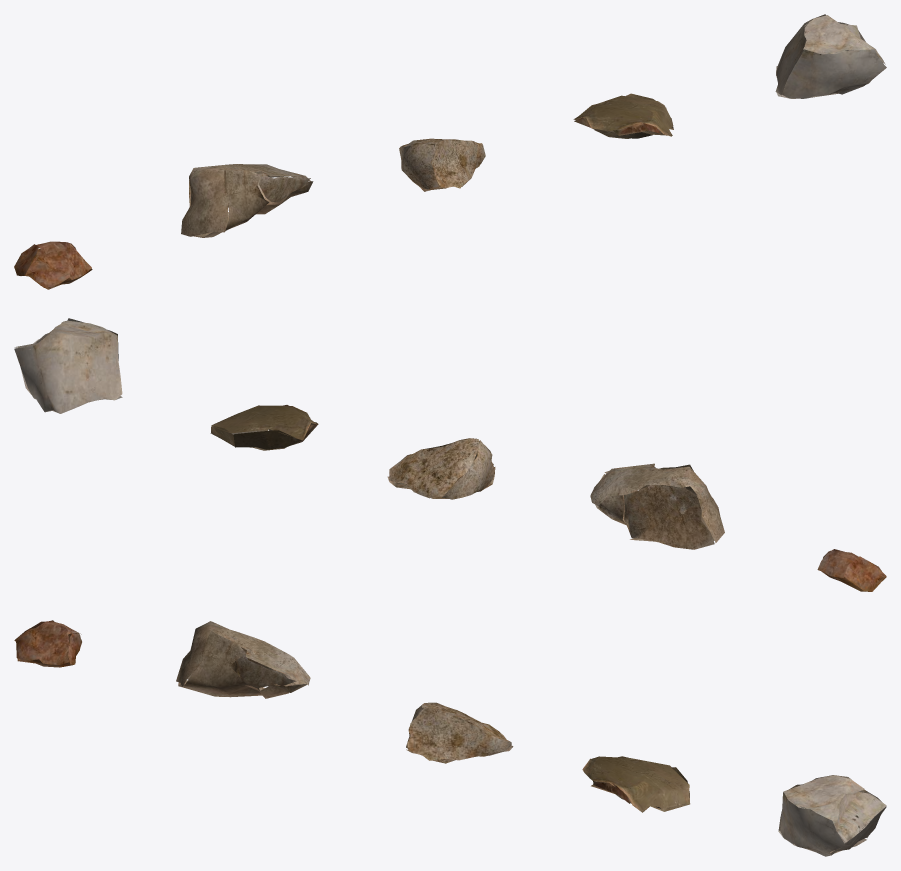
File: namaqualand_stones_01.glb
3 views of the same model, one above another, from view 1: azimuth 30°, elevation 25°; view 2: azimuth 150°, elevation 25°; view 3: azimuth 330°, elevation 25° (orthographic).
Visible parts, largest first — view 1: namaqualand_stones_01_a; view 2: namaqualand_stones_01_a; view 3: namaqualand_stones_01_a.
Boxes of the visible parts, <box> form: namaqualand_stones_01_a: <box>14,14,886,289</box>; namaqualand_stones_01_a: <box>14,318,886,591</box>; namaqualand_stones_01_a: <box>14,620,886,856</box>.
Size of the model in its own units: 1.02 by 0.0836 by 0.1135.
Materials: 1 (1 with a texture image).
